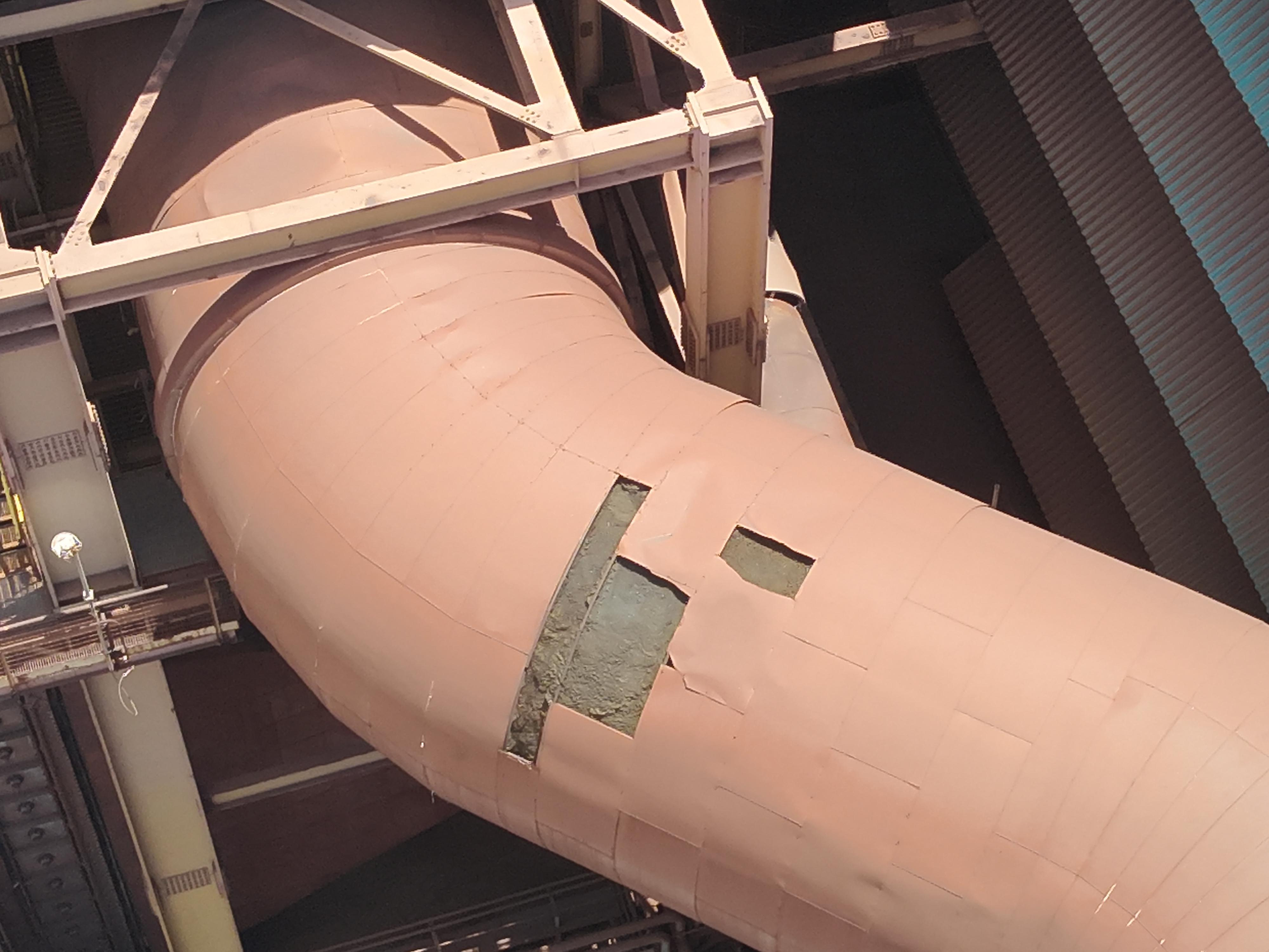Failures: (495, 422, 826, 793)
